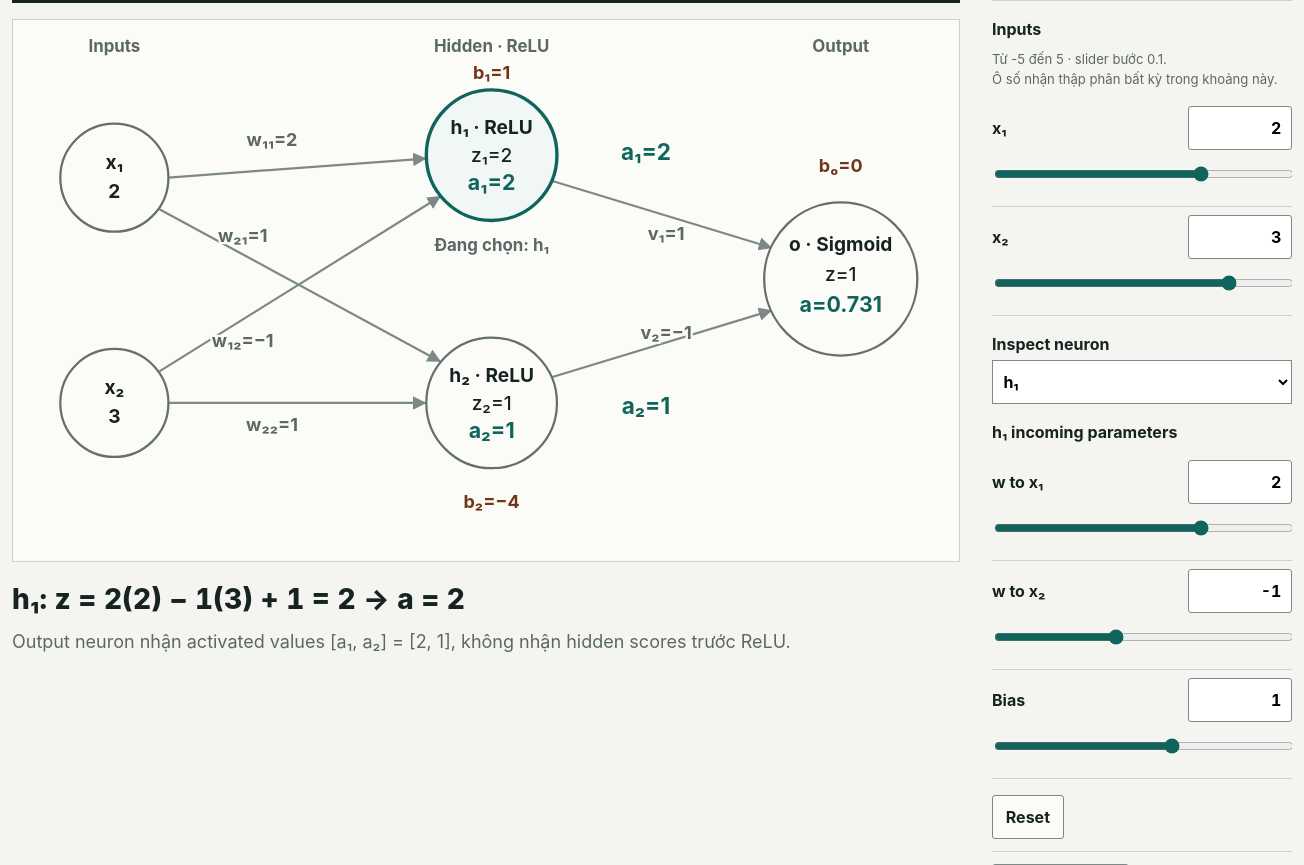
Test: forward pass diagram › updates both hidden activations and downstream output from one input
Replace the text in the field labelled "x₁" with "3". click: (1240, 128)
box: [1188, 106, 1292, 150]
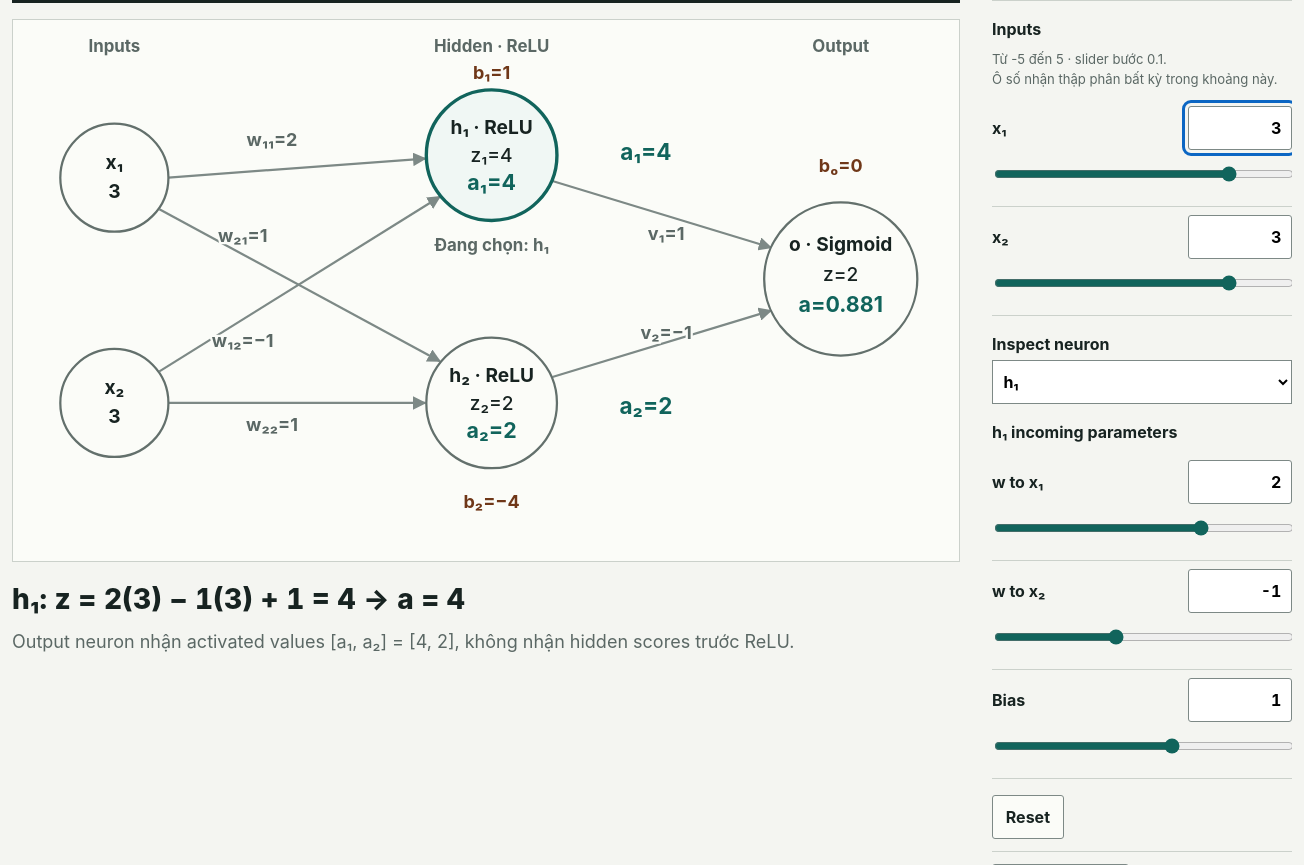
Expected: the text "a₁=4" is shown, [467, 169, 516, 195]
Now the text "[a₁, a₂] = [4, 2]" is shown, box [12, 628, 862, 655]
